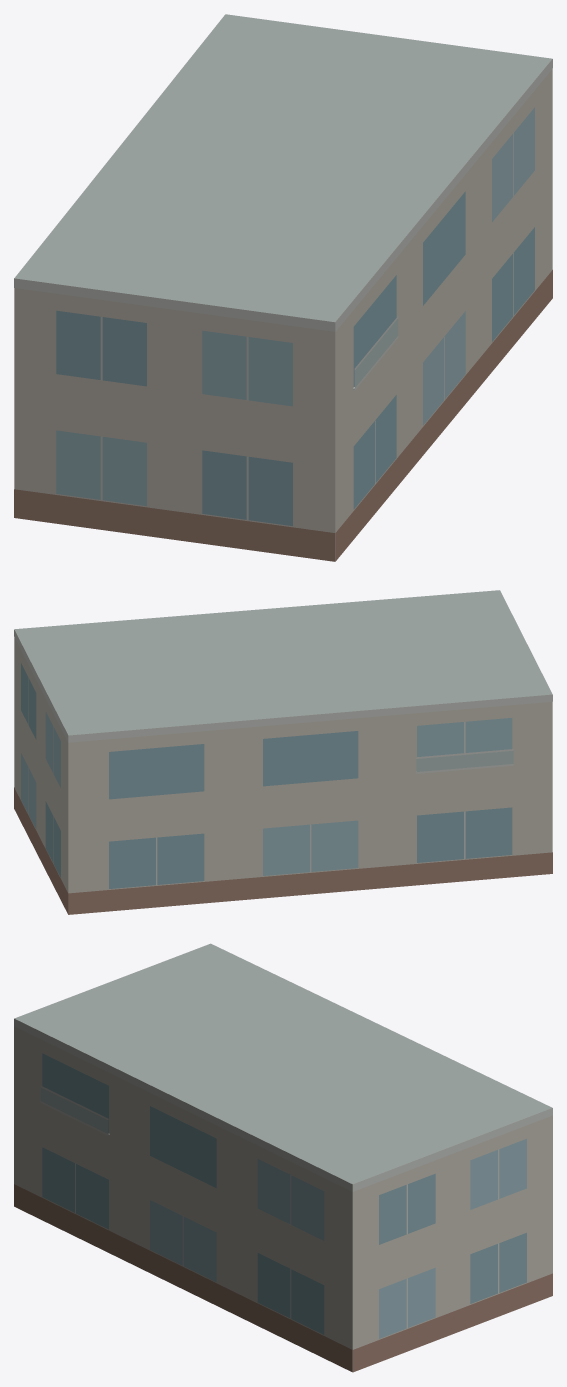
The model's file is survey-upis-32664629.glb.
3 renders of one model, top to bottom at view 1: azimuth 30°, elevation 25°; view 2: azimuth 150°, elevation 25°; view 3: azimuth 270°, elevation 25°, orthographic. The views are drawn at different scales.
Parts seen in each view (by area): view 1: survey-upis-32664629.tmp; view 2: survey-upis-32664629.tmp; view 3: survey-upis-32664629.tmp.
Part boxes in pixels (<box>): survey-upis-32664629.tmp: <box>14,14,552,561</box>; survey-upis-32664629.tmp: <box>14,590,552,914</box>; survey-upis-32664629.tmp: <box>14,943,552,1372</box>.
Size of the model in its own units: 16.77 by 6.1 by 15.85.
